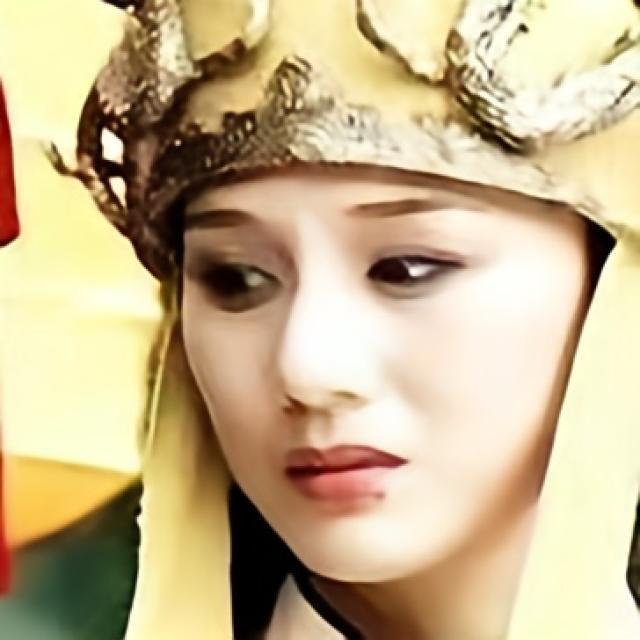sad: (178, 158, 587, 587)
